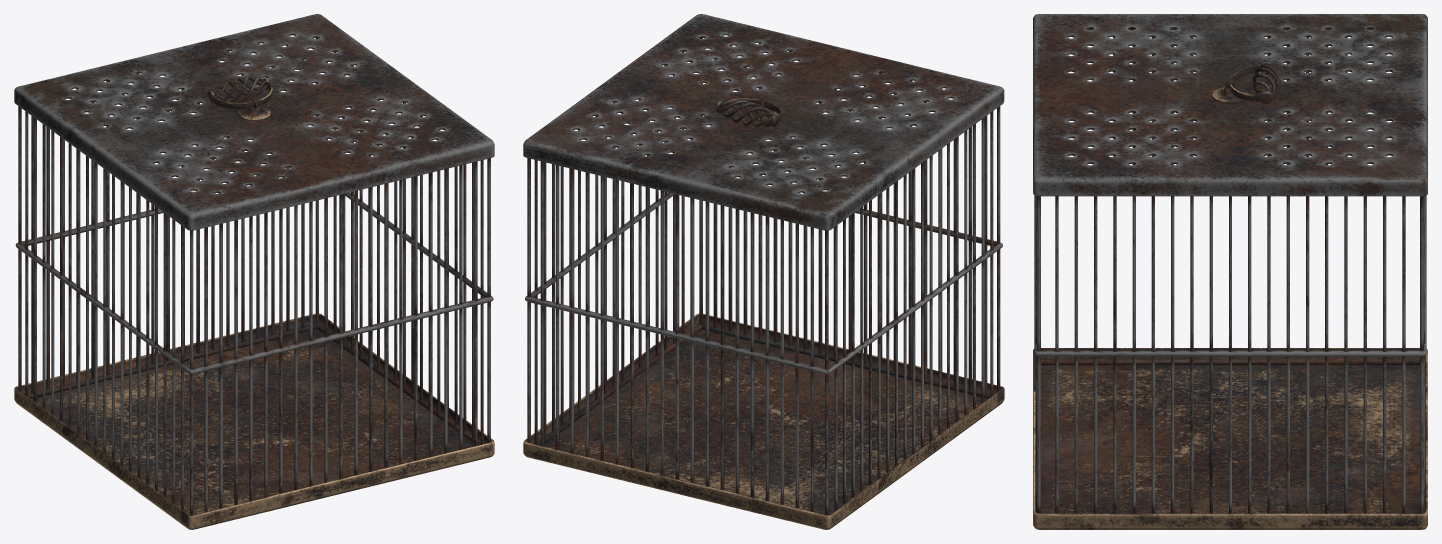
File: cage.glb
The picture shows the model from 3 angles, left to right: view 1: azimuth 30°, elevation 25°; view 2: azimuth 150°, elevation 25°; view 3: azimuth 270°, elevation 25°; orthographic projection. The views are drawn at different scales.
Parts seen in each view (by area): view 1: Cylinder.009__0; view 2: Cylinder.009__0; view 3: Cylinder.009__0.
Part boxes in pixels (x1,y1,x2,y2): Cylinder.009__0: [14, 14, 494, 529]; Cylinder.009__0: [523, 14, 1004, 529]; Cylinder.009__0: [1033, 14, 1427, 529].
Bounding box in the file's own units: 0.4996 × 0.5286 × 0.4996.
1 material, 1 textured.
